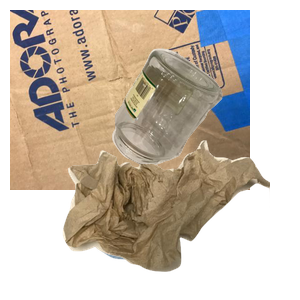cardboard: (10, 10, 250, 190)
glass: (110, 46, 300, 205)
plastic: (81, 179, 239, 300)
trash: (60, 138, 300, 300)
